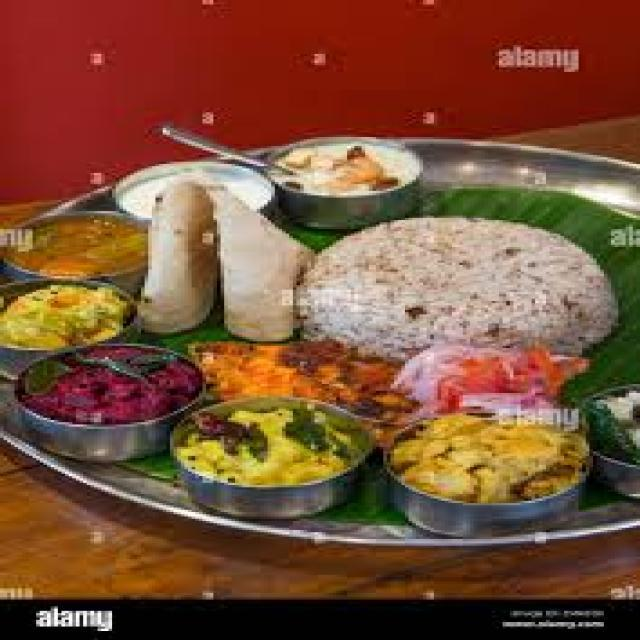papad: (385, 412, 594, 515), (116, 178, 250, 326)
roti: (293, 213, 606, 361)
sweet: (16, 359, 187, 431), (275, 138, 417, 200)
veg-fry: (170, 399, 372, 498), (272, 140, 418, 200)
